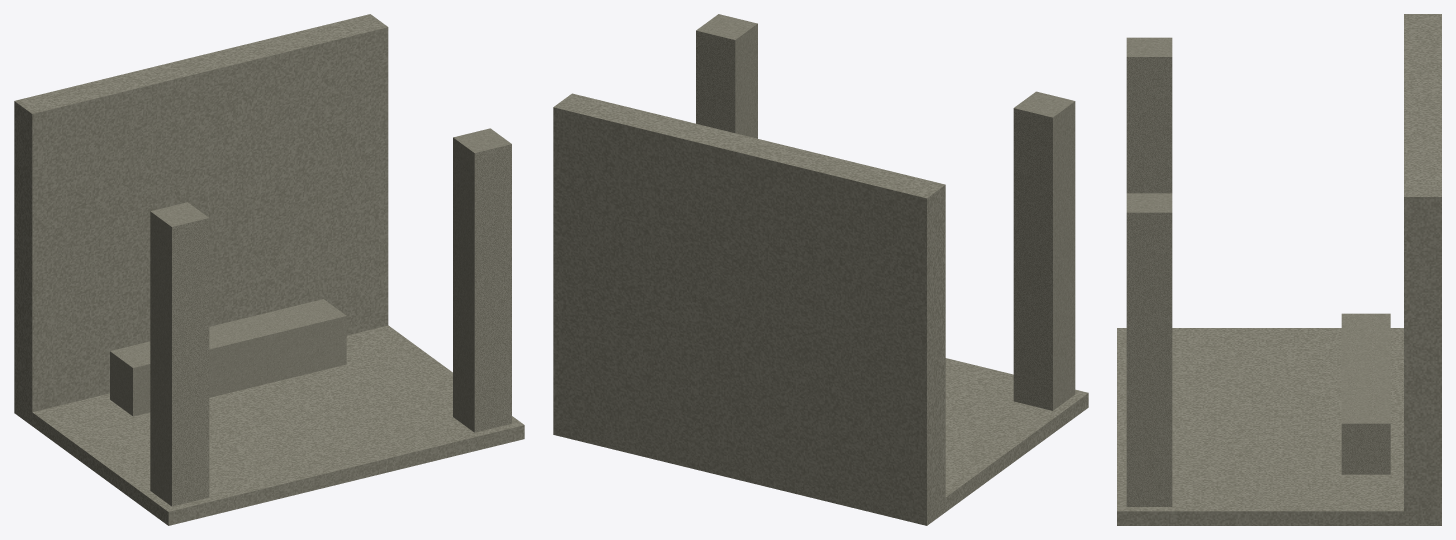
The picture shows the model from 3 angles, left to right: view 1: azimuth 30°, elevation 25°; view 2: azimuth 150°, elevation 25°; view 3: azimuth 270°, elevation 25°; orthographic projection. The views are drawn at different scales.
Parts seen in each view (by area): view 1: COL_wall_segment, COL_floor, COL_pier, COL_pier.001, COL_bench; view 2: COL_wall_segment, COL_pier, COL_floor, COL_pier.001; view 3: COL_floor, COL_wall_segment, COL_pier.001, COL_bench, COL_pier.
Part boxes in pixels (bbox=[...]): COL_wall_segment: bbox=[14, 14, 388, 412]; COL_floor: bbox=[14, 325, 524, 525]; COL_pier: bbox=[150, 202, 209, 506]; COL_pier.001: bbox=[453, 128, 511, 432]; COL_bench: bbox=[110, 299, 346, 416]; COL_wall_segment: bbox=[553, 93, 945, 511]; COL_pier: bbox=[1013, 91, 1075, 410]; COL_floor: bbox=[553, 358, 1088, 525]; COL_pier.001: bbox=[696, 14, 757, 138]; COL_floor: bbox=[1117, 328, 1441, 525]; COL_wall_segment: bbox=[1404, 14, 1441, 511]; COL_pier.001: bbox=[1126, 193, 1172, 506]; COL_bench: bbox=[1341, 313, 1390, 474]; COL_pier: bbox=[1126, 37, 1172, 193].
Bounding box in the file's own units: 4 × 3.35 × 3.
1 material, 1 textured.
